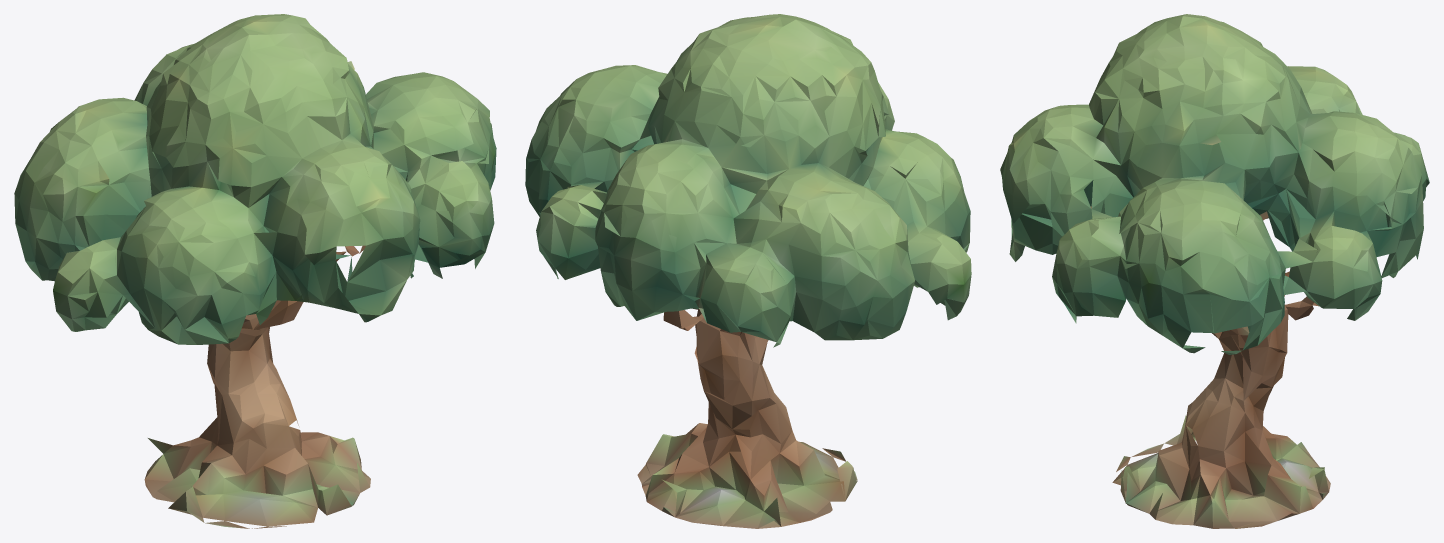
Rendered from world_stylized_tree_lod2.glb.
The picture shows the model from 3 angles, left to right: view 1: azimuth 30°, elevation 25°; view 2: azimuth 150°, elevation 25°; view 3: azimuth 270°, elevation 25°; orthographic projection. The views are drawn at different scales.
Parts seen in each view (by area): view 1: world; view 2: world; view 3: world.
Boxes of the visible parts, x1=… form: world: x1=14, y1=14, x2=496, y2=528; world: x1=525, y1=14, x2=971, y2=528; world: x1=1000, y1=14, x2=1429, y2=528.
Size of the model in its own units: 1.84 by 1.89 by 1.62.
